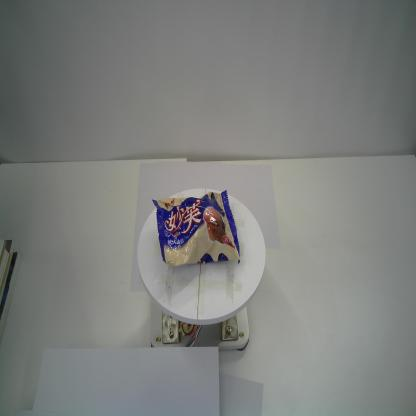Dessert: (152, 190, 242, 268)
